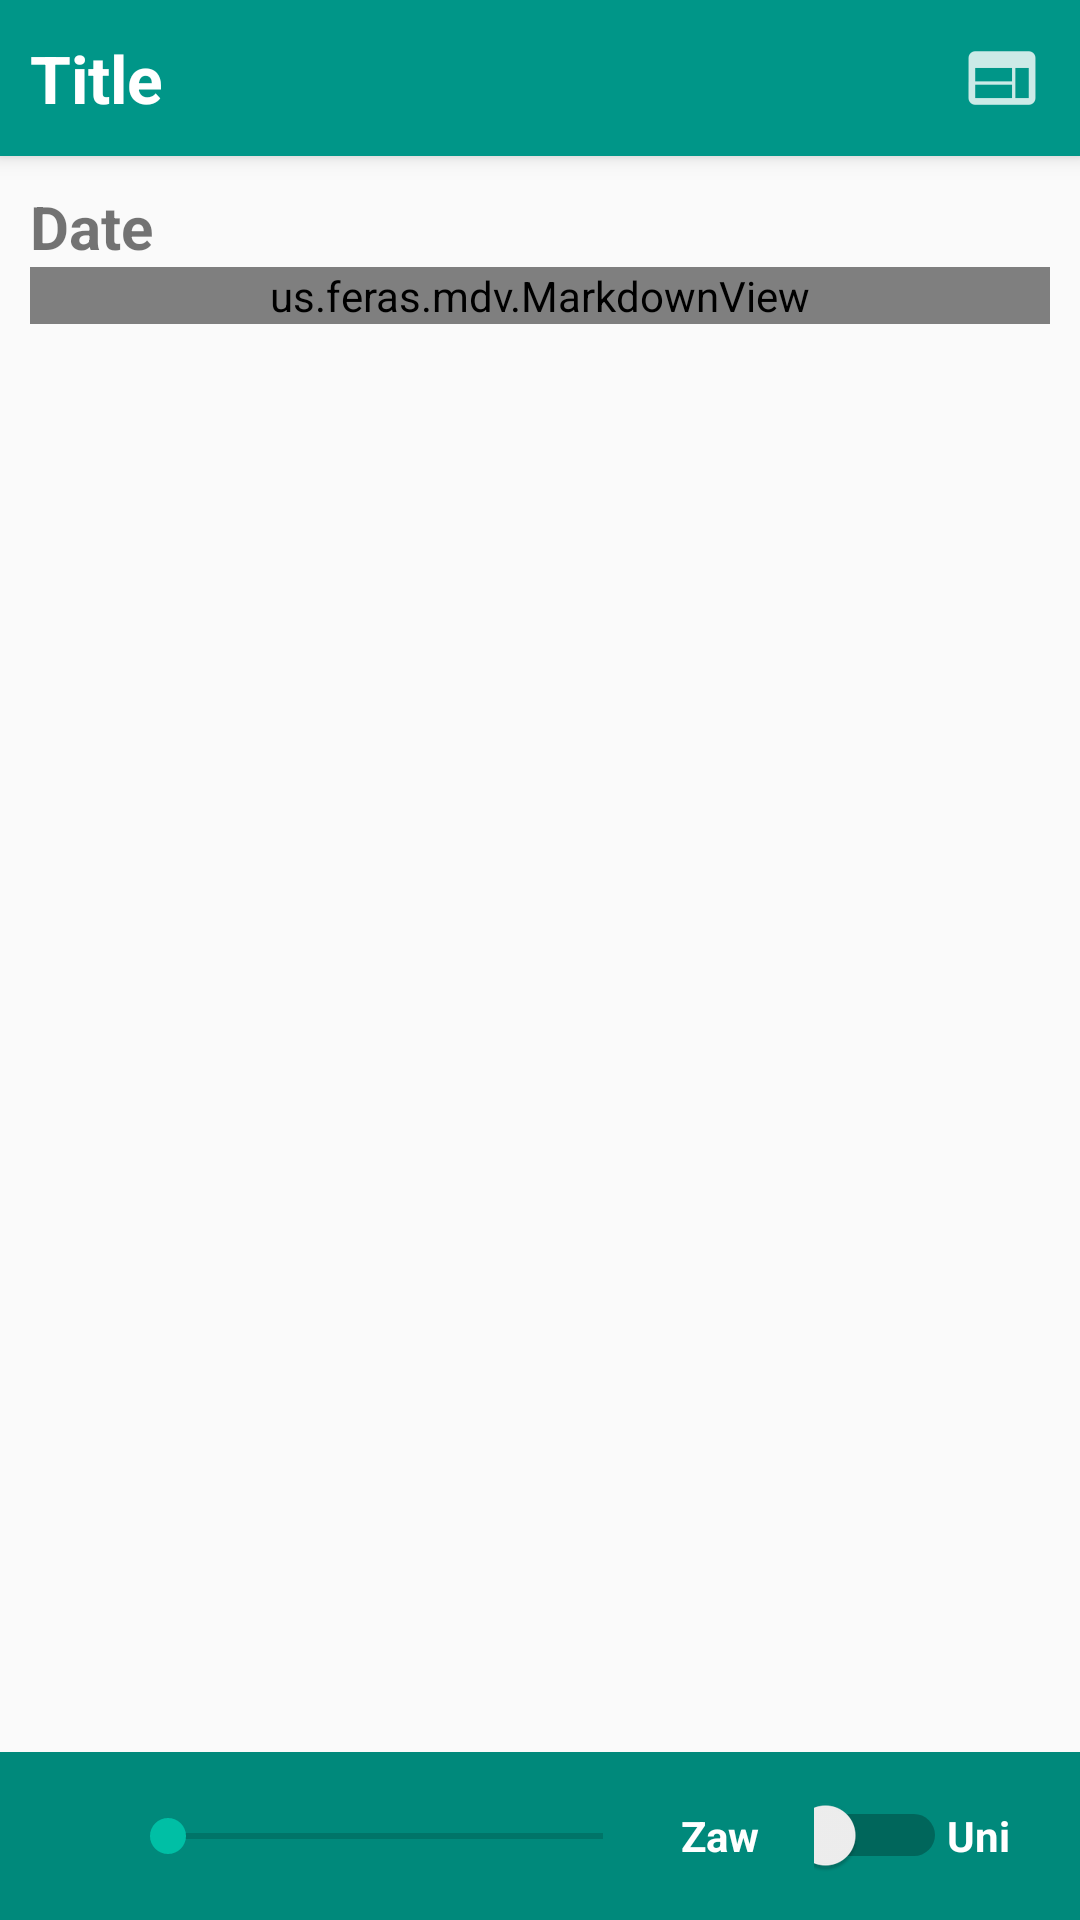

Icon bounding boxes for this 1080w x 1920h phone screenshot, format (x1, y1, x2, y2):
website: (968, 51, 1036, 105)
